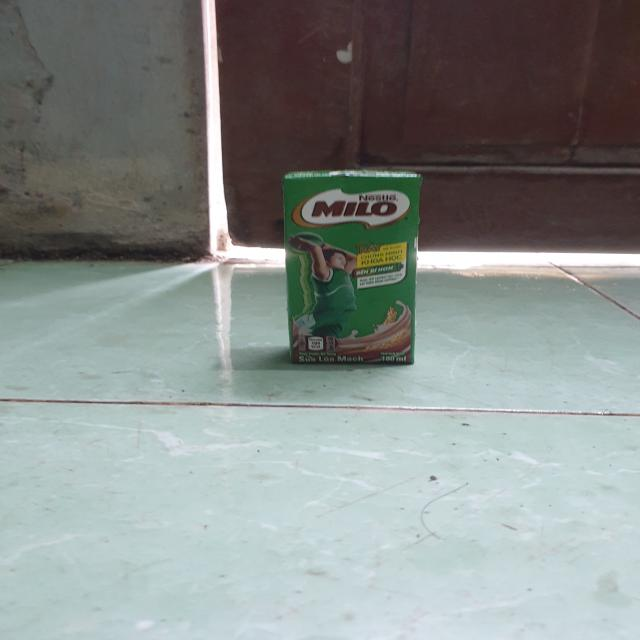Milo: (278, 168, 427, 369)
